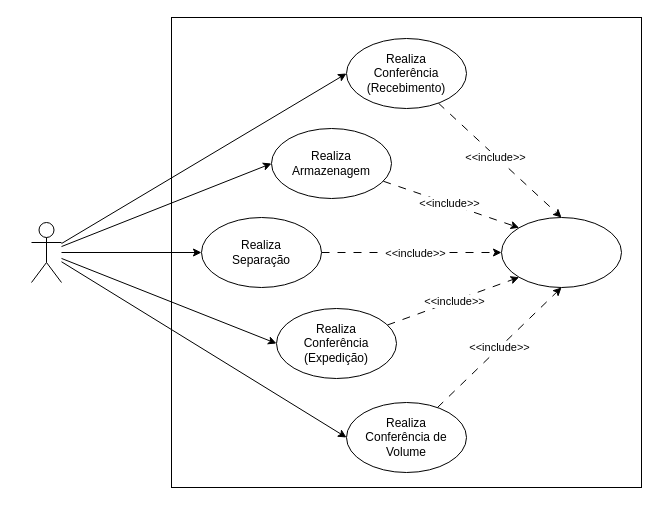
Some shapes in this 659 by 505 pixel diagram are drawn without their labels. Here are the shapes that lost their labels. From the top down, the centre of each, then its label:
At point (46, 252): "Conferente".
At point (561, 252): "Login".
